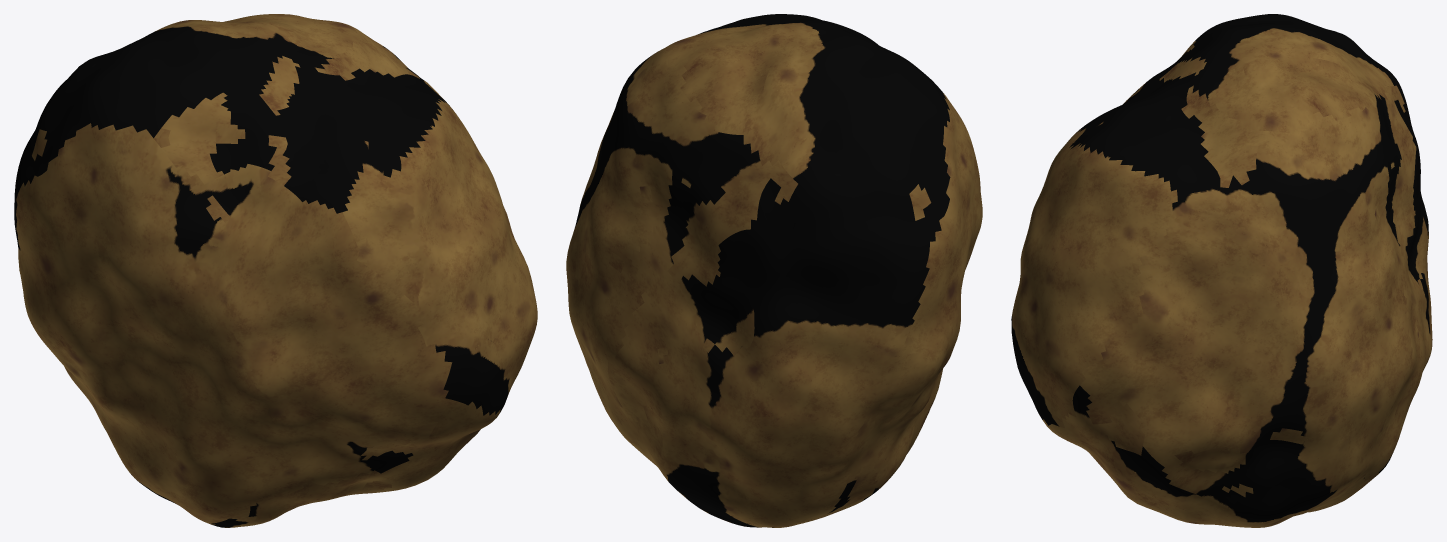
3 views of the same model, side by side, from view 1: azimuth 30°, elevation 25°; view 2: azimuth 150°, elevation 25°; view 3: azimuth 270°, elevation 25° (orthographic). The views are drawn at different scales.
Visible parts, largest first — view 1: original_ico.006; view 2: original_ico.006; view 3: original_ico.006.
Boxes of the visible parts, x1=… form: original_ico.006: x1=14, y1=14, x2=537, y2=527; original_ico.006: x1=566, y1=14, x2=982, y2=527; original_ico.006: x1=1011, y1=14, x2=1432, y2=527.
Bounding box in the file's own units: 3.47 × 4.11 × 3.44.
